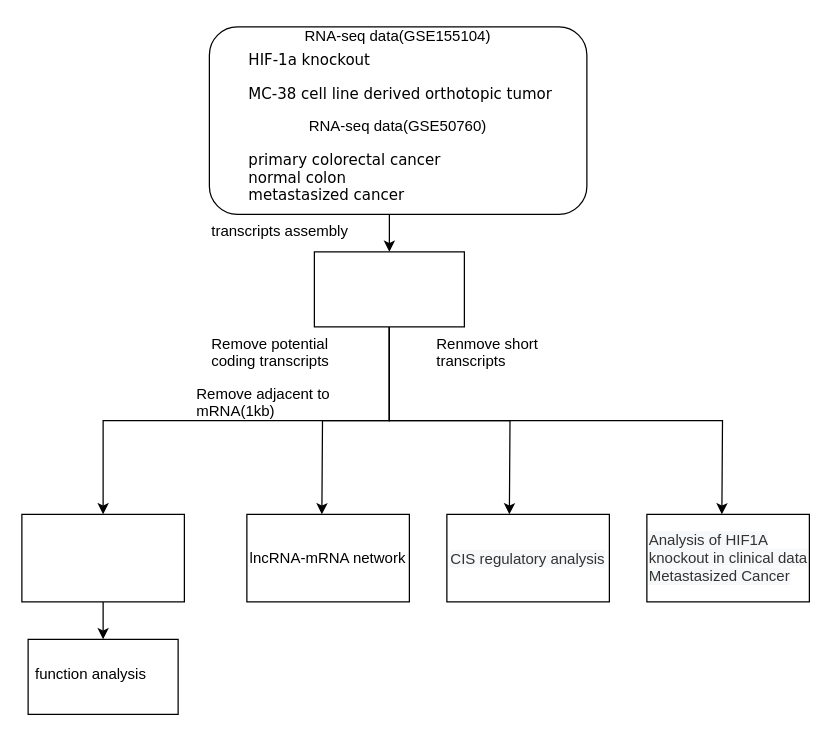
Image size: 831x736. Some labels were removed from this diagram. Here are the shapes that lost their labels. From the top down, the box of each, then its label:
(313, 251, 464, 327): lncRNA prediction
(21, 513, 184, 602): Differential lncRNA and differential mRNA
